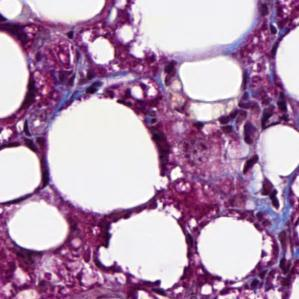inflammation: (216, 95, 263, 136)
